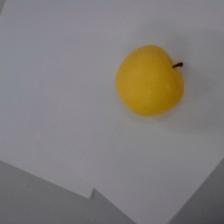yellow: (112, 41, 190, 120)
